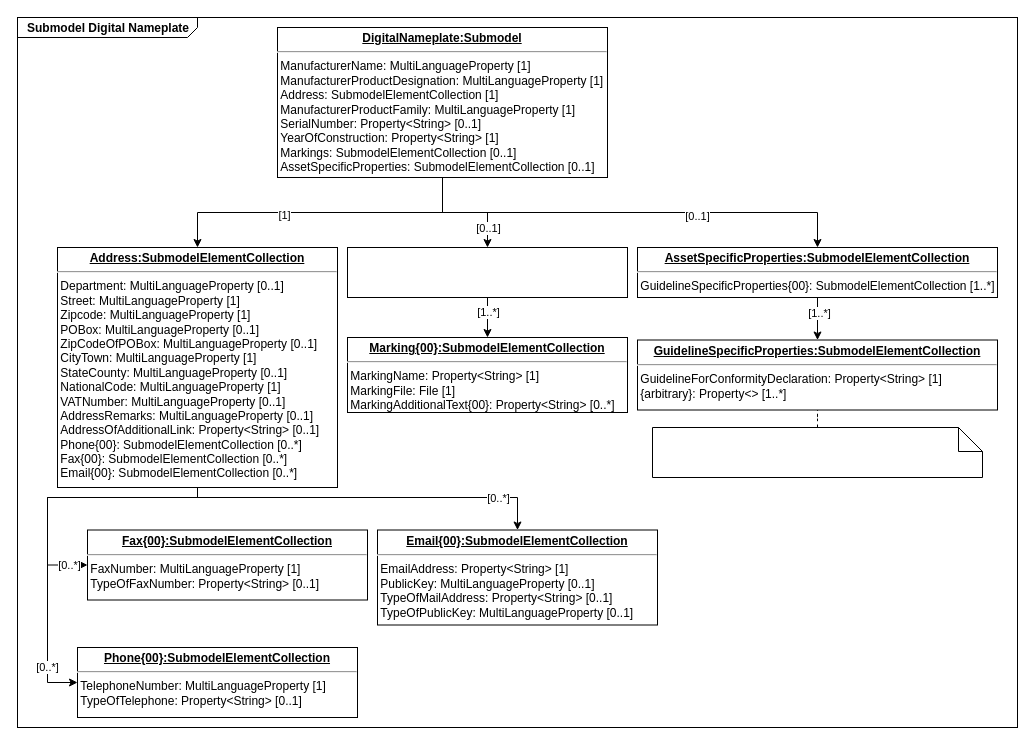
This 1035x745 diagram has some shape labels left out. The shapes that lost their labels are listed below. From the top down, each one's centre as x and y in pixels, then its label:
At (487,272): "Markings:SubmodelElementCollection Marking{00}: SubmodelElementCollection [1..*]".
At (817,452): "{arbitrary}: Name und Datentyp werden durch verwendete Guideline vorgegeben".
